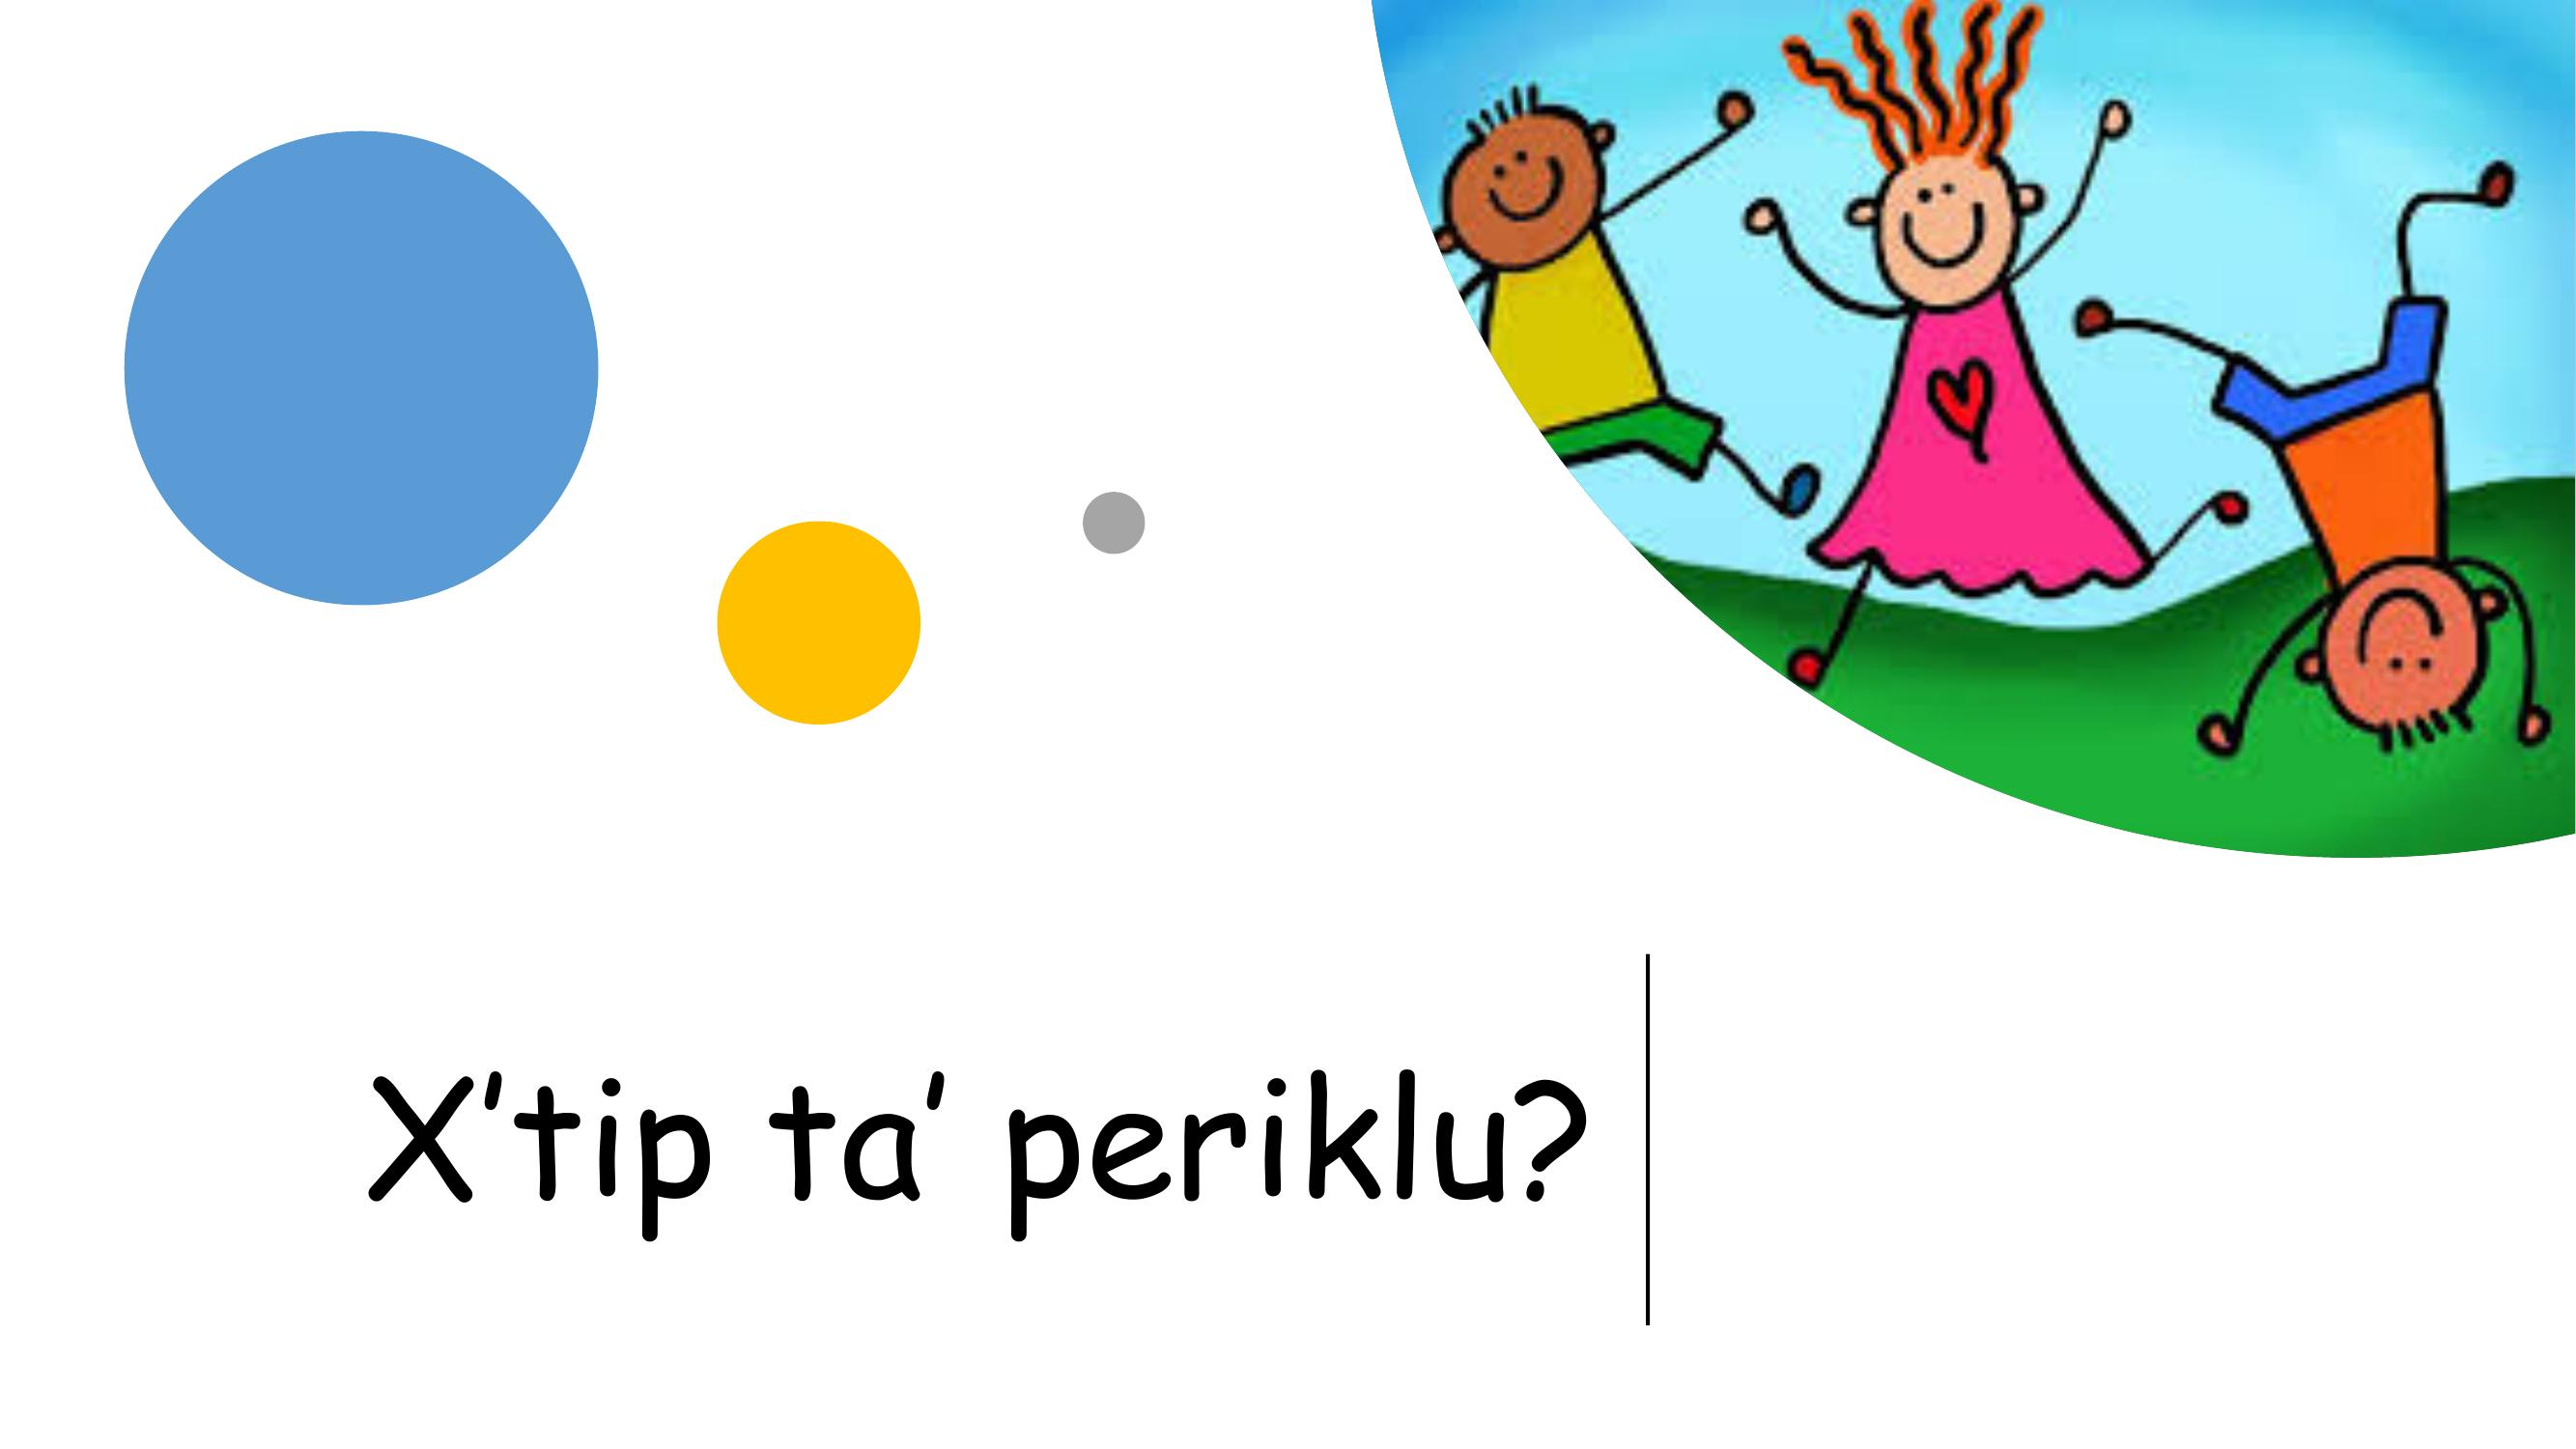text: (345, 1039, 1603, 1261)
